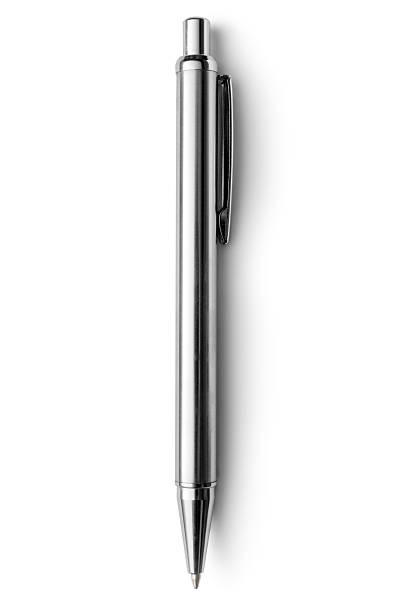pen: (157, 7, 256, 595)
